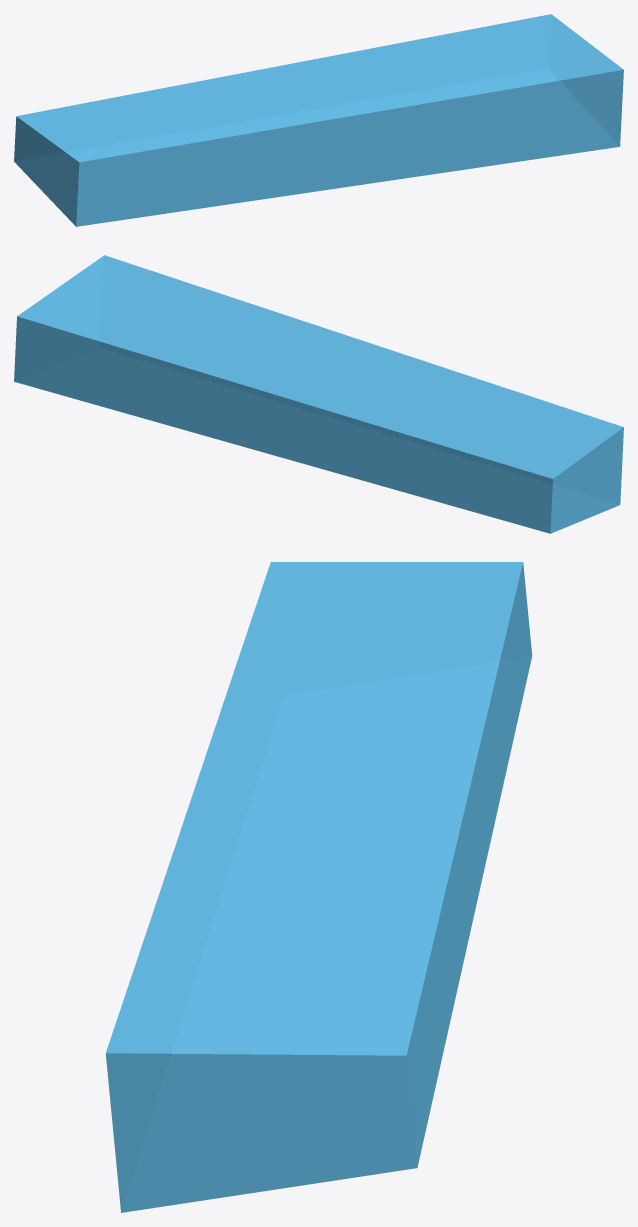
The model's file is Event_420094457_HErechit_94.fbx.
3 renders of one model, top to bottom at view 1: azimuth 30°, elevation 25°; view 2: azimuth 150°, elevation 25°; view 3: azimuth 270°, elevation 25°, orthographic. The views are drawn at different scales.
Visible parts, largest first — view 1: Model; view 2: Model; view 3: Model.
Part boxes in pixels (x1,y1,x2,y2): Model: [14, 14, 623, 226]; Model: [14, 255, 623, 533]; Model: [105, 562, 532, 1212].
Bounding box in the file's own units: 2.16 × 0.3263 × 0.7899.
